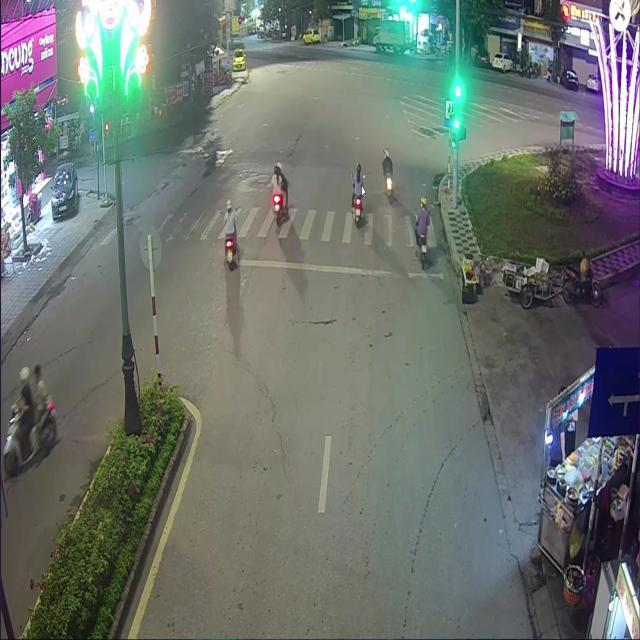green_light: (452, 77, 461, 130)
motobike: (221, 197, 241, 289), (412, 186, 433, 270), (349, 153, 367, 240)
stop_line: (228, 256, 440, 277)
